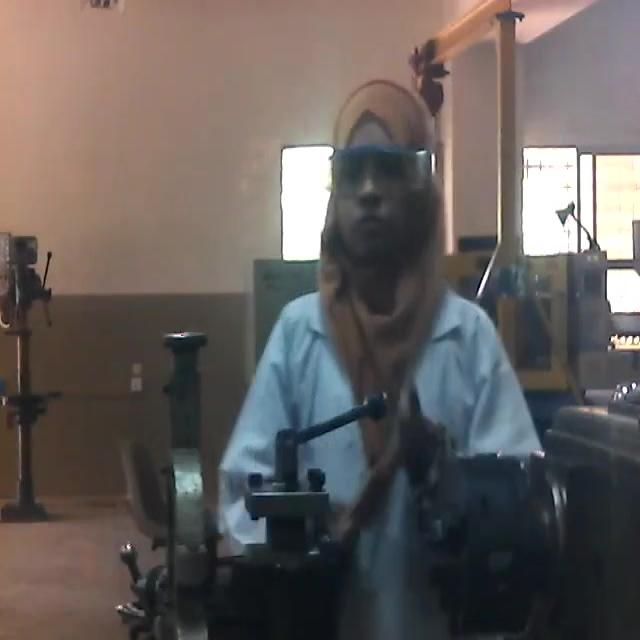googles: (323, 138, 445, 214)
labcoat: (217, 283, 552, 640)
